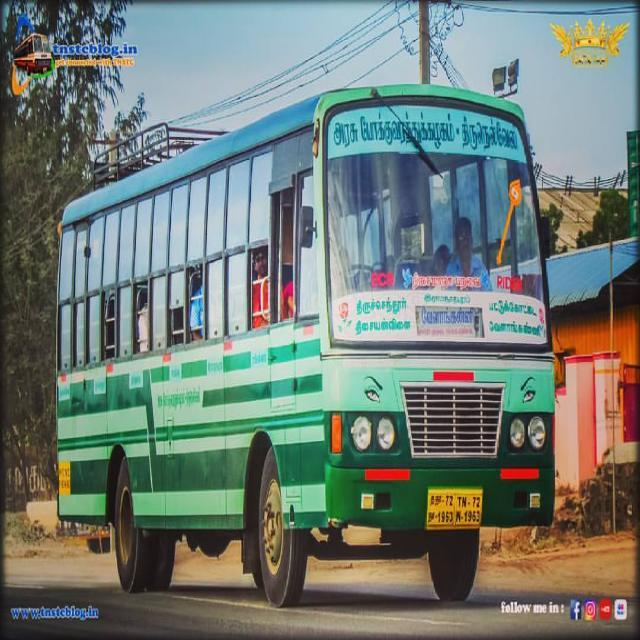Bus: (52, 81, 560, 613)
